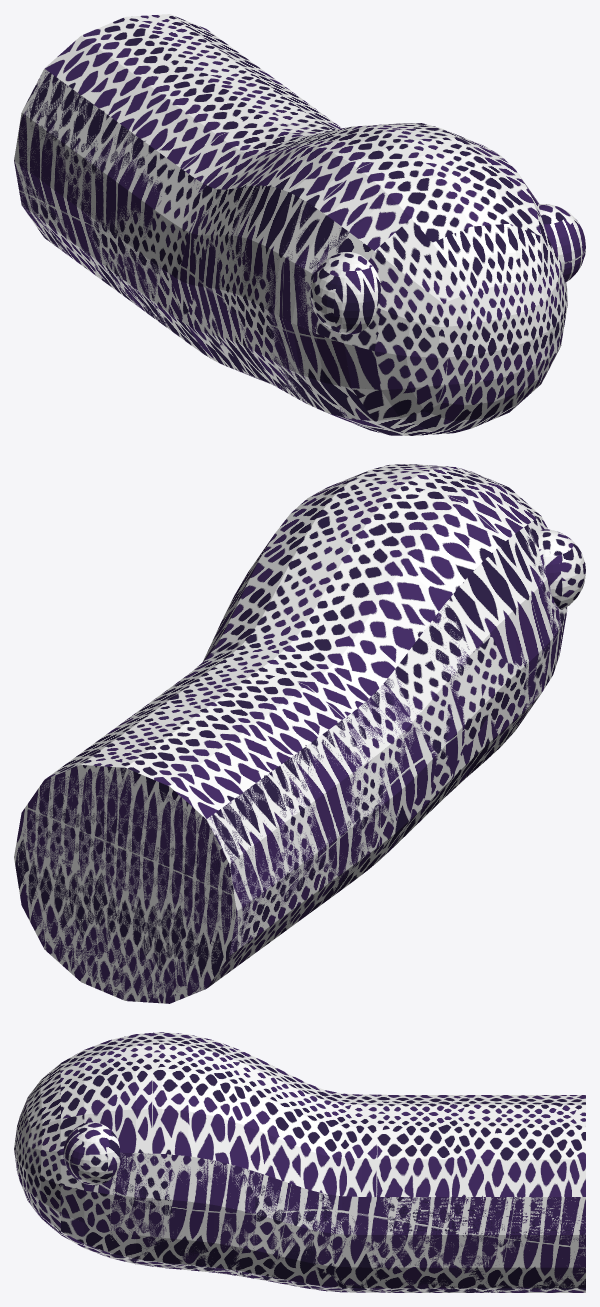
File: snake_head.gltf
3 renders of one model, top to bottom at view 1: azimuth 30°, elevation 25°; view 2: azimuth 150°, elevation 25°; view 3: azimuth 270°, elevation 25°, orthographic. The views are drawn at different scales.
Visible parts, largest first — view 1: Head; view 2: Head; view 3: Head.
Boxes of the visible parts, x1=… form: Head: x1=14, y1=14, x2=585, y2=435; Head: x1=14, y1=464, x2=585, y2=1003; Head: x1=14, y1=1032, x2=585, y2=1292.
Bounding box in the file's own units: 5.56 × 6.27 × 13.66.
Materials: 1 (1 with a texture image).
